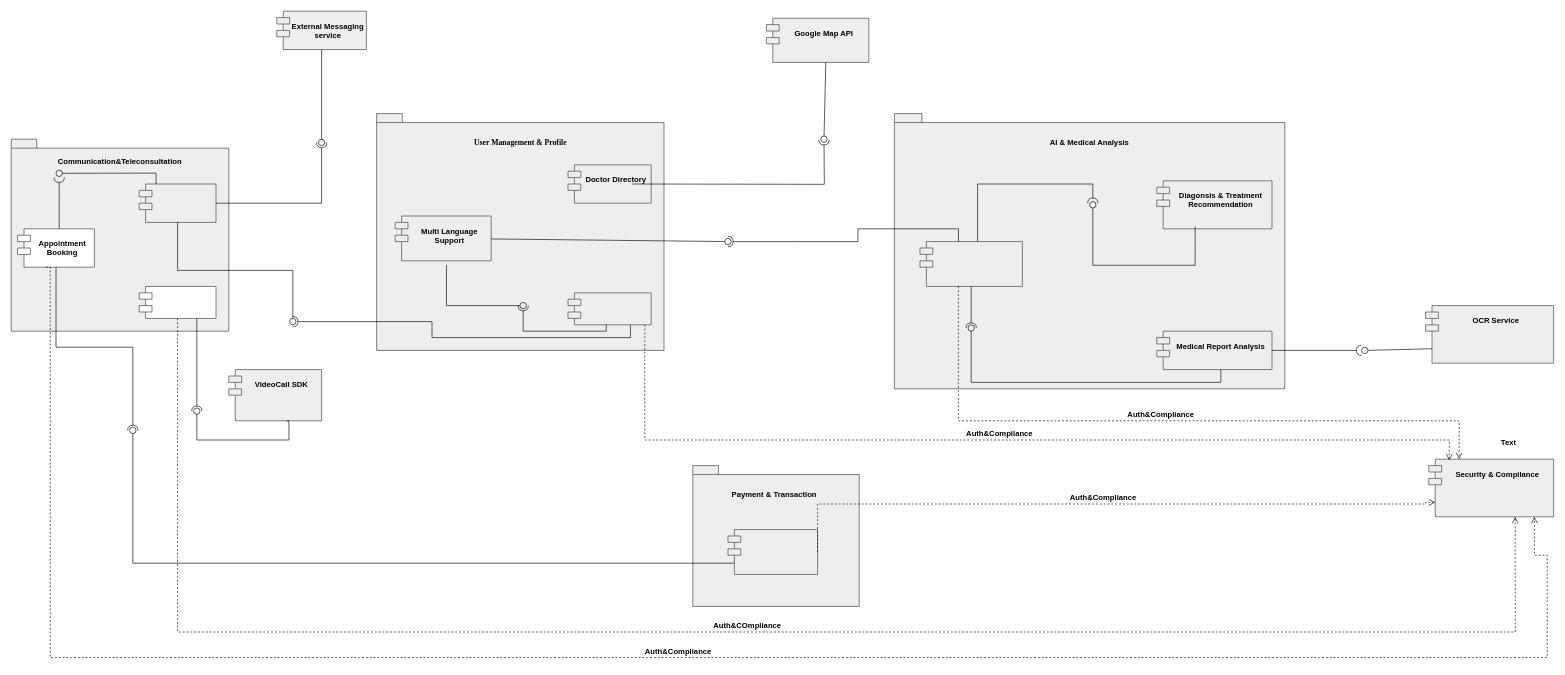
This 1565x675 diagram has some shape labels left out. The box of each missing label's shape, as (x1, y1, x2, y2) in pixels:
AI Health Assistant: (919, 241, 1022, 286)
Notification System: (139, 183, 216, 222)
Payment Gateway Integration: (727, 529, 818, 574)
Teleconsultation: (139, 286, 216, 318)
User Management: (567, 292, 651, 325)
